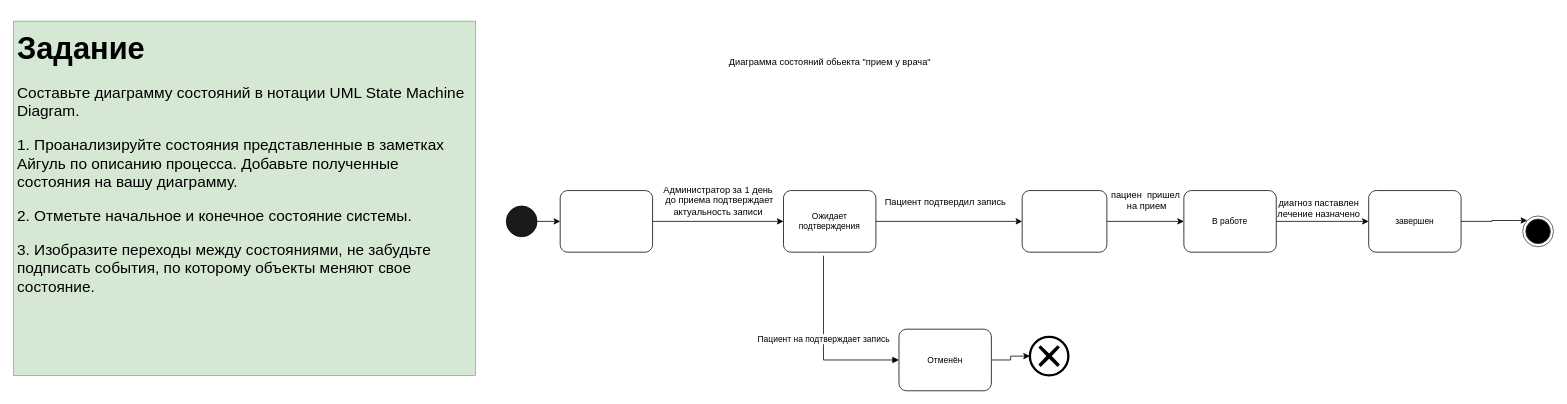
Image size: 1567x404. Some labels were removed from this diagram. Each missing label, with the box of its shape:
Подтверждён: (1021, 190, 1107, 252)
Создан: (559, 190, 653, 252)
